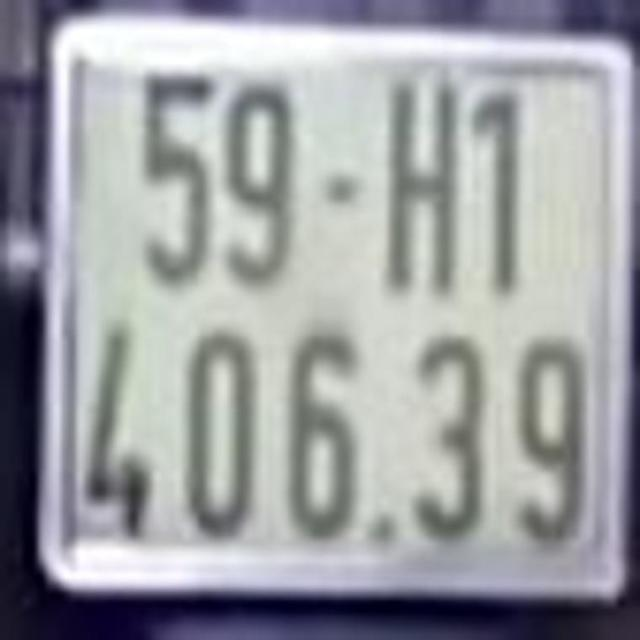0: (183, 327, 256, 537)
1: (472, 87, 523, 296)
3: (416, 333, 483, 538)
4: (82, 321, 155, 540)
5: (138, 68, 214, 284)
6: (288, 328, 358, 538)
9: (223, 78, 295, 287), (517, 338, 585, 542)
H: (384, 75, 460, 295)
